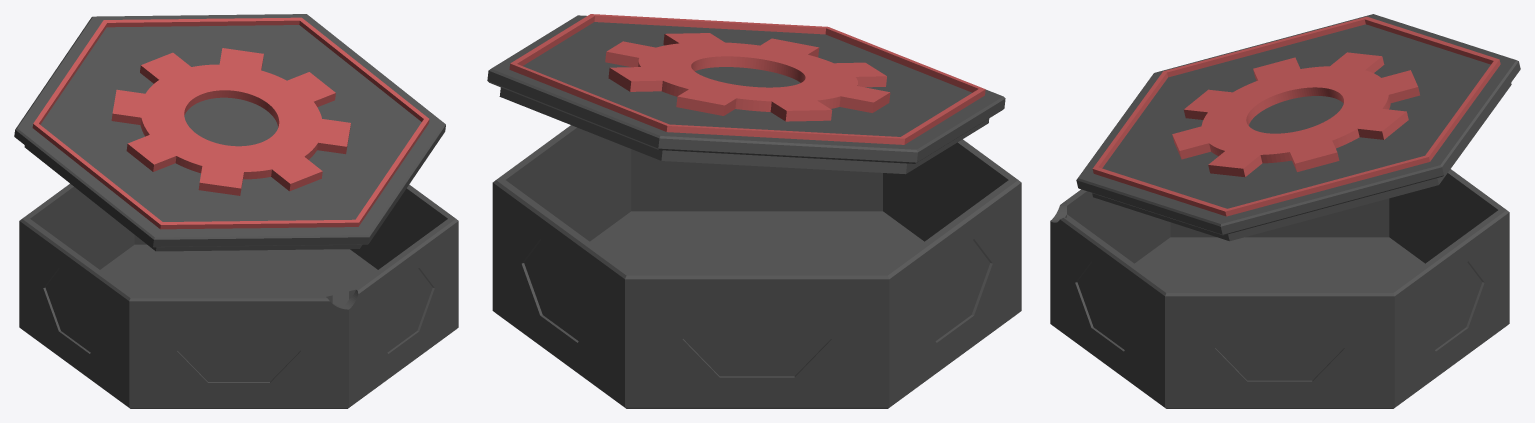
File: ingegneria-aperto.glb
3 renders of one model, left to right at view 1: azimuth 30°, elevation 25°; view 2: azimuth 150°, elevation 25°; view 3: azimuth 270°, elevation 25°, orthographic. The views are drawn at different scales.
Parts seen in each view (by area): view 1: 01_vaschetta_esagonale, 02_coperchio_esagonale, 04_ingranaggio, 03_cornice; view 2: 01_vaschetta_esagonale, 02_coperchio_esagonale, 04_ingranaggio, 03_cornice; view 3: 01_vaschetta_esagonale, 02_coperchio_esagonale, 04_ingranaggio, 03_cornice.
Part boxes in pixels (bbox=[...]): 01_vaschetta_esagonale: bbox=[19, 183, 458, 408]; 02_coperchio_esagonale: bbox=[14, 14, 445, 251]; 04_ingranaggio: bbox=[111, 48, 350, 195]; 03_cornice: bbox=[32, 17, 429, 229]; 01_vaschetta_esagonale: bbox=[492, 125, 1021, 408]; 02_coperchio_esagonale: bbox=[487, 15, 1005, 174]; 04_ingranaggio: bbox=[605, 33, 890, 121]; 03_cornice: bbox=[509, 14, 985, 144]; 01_vaschetta_esagonale: bbox=[1050, 169, 1509, 408]; 02_coperchio_esagonale: bbox=[1076, 14, 1520, 241]; 04_ingranaggio: bbox=[1172, 52, 1419, 177]; 03_cornice: bbox=[1092, 16, 1500, 216].
Bounding box in the file's own units: 0.1081 × 0.0693 × 0.1178.
